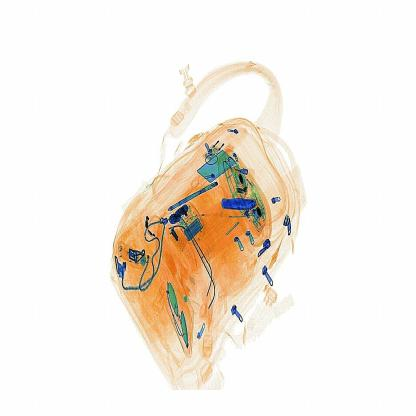knife: (213, 193, 259, 214)
